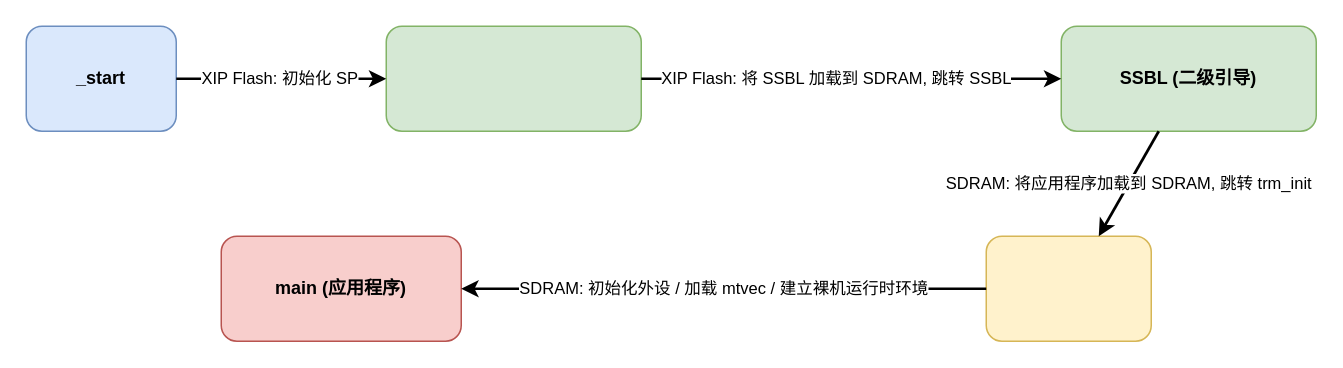
Image size: 1343x368. Some labels were removed from this diagram. Each missing label, with the centre of its shape:
"FSBL (一级引导)" goes at point 513,78.
"trm_init" goes at point 1068,288.
